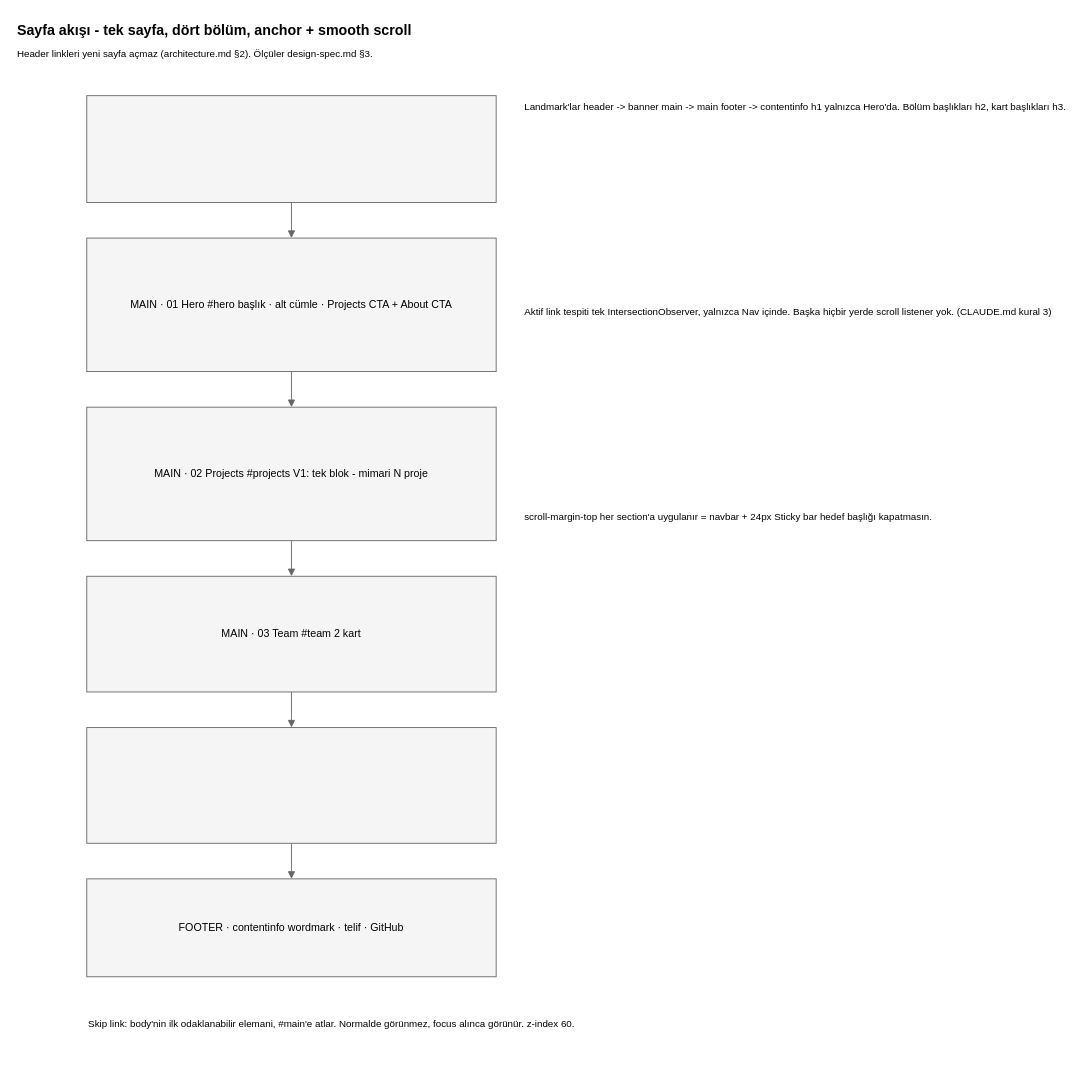
Some shapes in this 1081 by 1089 pixel diagram are drawn without their labels. Each missing label, with the centre of its shape:
HEADER · Navigation sticky, top:0, z-index 40 wordmark · 4 link · GitHub: the point at 291,148
MAIN · 04 About #about manifesto + prensipler: the point at 291,785
